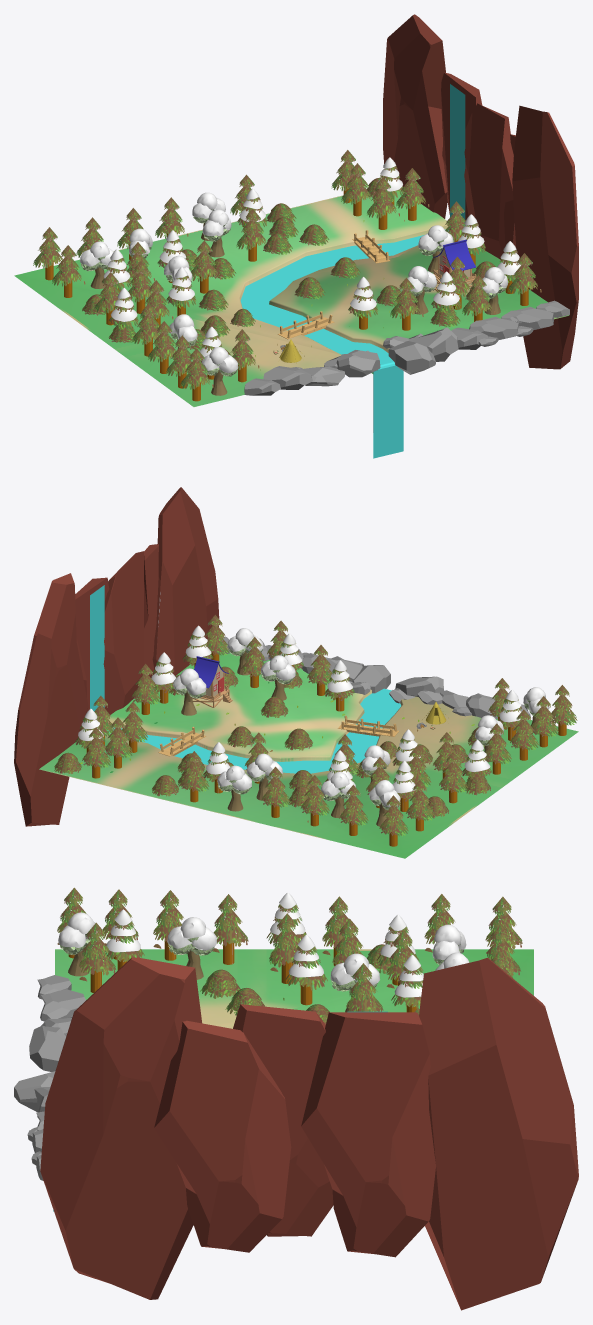
File: New_Forest.fbx
The picture shows the model from 3 angles, top to bottom: view 1: azimuth 30°, elevation 25°; view 2: azimuth 150°, elevation 25°; view 3: azimuth 270°, elevation 25°; orthographic projection. The views are drawn at different scales.
Visible parts, largest first — view 1: rock04.007, Forest_tree, forest, river, Forest_grass, Wood_House, Bridge002, Bridge001; view 2: rock04.007, Forest_tree, forest, Forest_grass, river, Wood_House, Bridge002, Bridge001; view 3: rock04.007, Forest_tree, forest, Forest_grass.
Part boxes in pixels (x1,y1,x2,y2): rock04.007: (244, 14, 578, 395); Forest_tree: (33, 150, 541, 401); forest: (14, 190, 569, 406); river: (240, 84, 465, 458); Forest_grass: (82, 178, 495, 355); Wood_House: (433, 239, 476, 290); Bridge002: (278, 311, 334, 339); Bridge001: (352, 230, 389, 263); rock04.007: (14, 487, 530, 826); Forest_tree: (75, 615, 577, 846); forest: (39, 653, 578, 858); Forest_grass: (54, 666, 490, 817); river: (90, 585, 401, 773); Wood_House: (193, 656, 232, 707); Bridge002: (338, 715, 398, 736); Bridge001: (158, 726, 205, 756); rock04.007: (14, 957, 578, 1310); Forest_tree: (57, 887, 522, 1015); forest: (55, 949, 533, 1028); Forest_grass: (200, 944, 391, 1024).
Size of the model in its own units: 4385 by 2819 by 3935.
12 materials, 9 textured.
